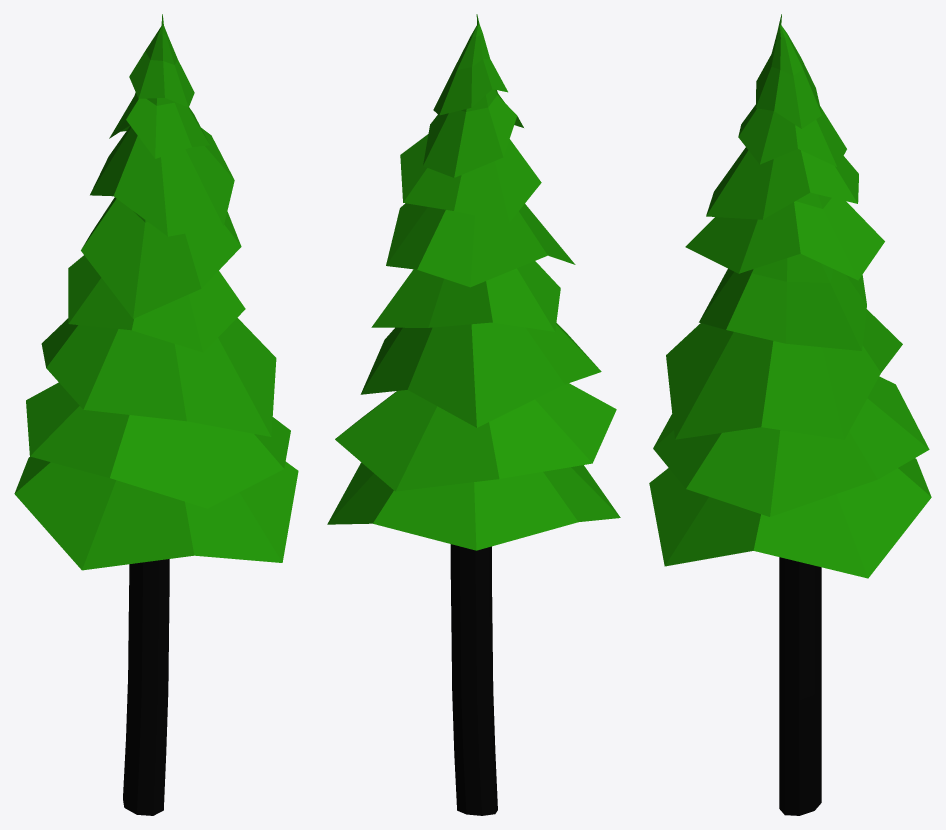
The model's file is PineTree01_EM.fbx.
3 renders of one model, left to right at view 1: azimuth 30°, elevation 25°; view 2: azimuth 150°, elevation 25°; view 3: azimuth 270°, elevation 25°, orthographic.
Visible parts, largest first — view 1: PineTree01_EM; view 2: PineTree01_EM; view 3: PineTree01_EM.
Boxes of the visible parts, box(x1,y1,x2,y2) form: PineTree01_EM: box(14, 14, 298, 815); PineTree01_EM: box(327, 14, 620, 815); PineTree01_EM: box(649, 14, 931, 815).
Bounding box in the file's own units: 392 × 1206 × 386.
